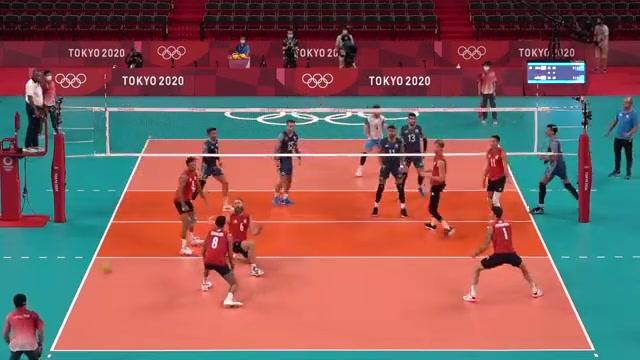ball: (101, 264, 112, 276)
